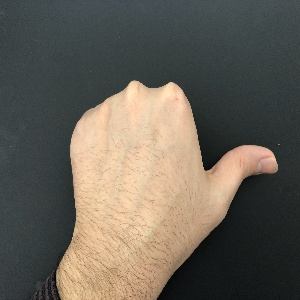hand: (68, 82, 278, 280)
